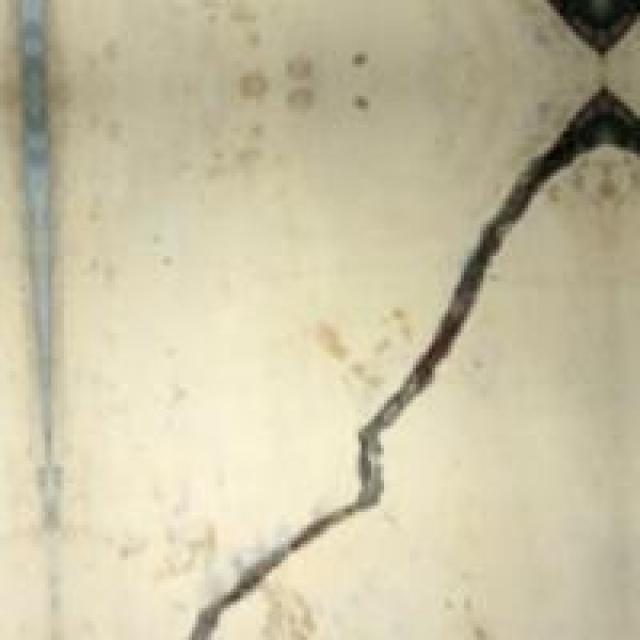crack: (169, 70, 636, 637)
